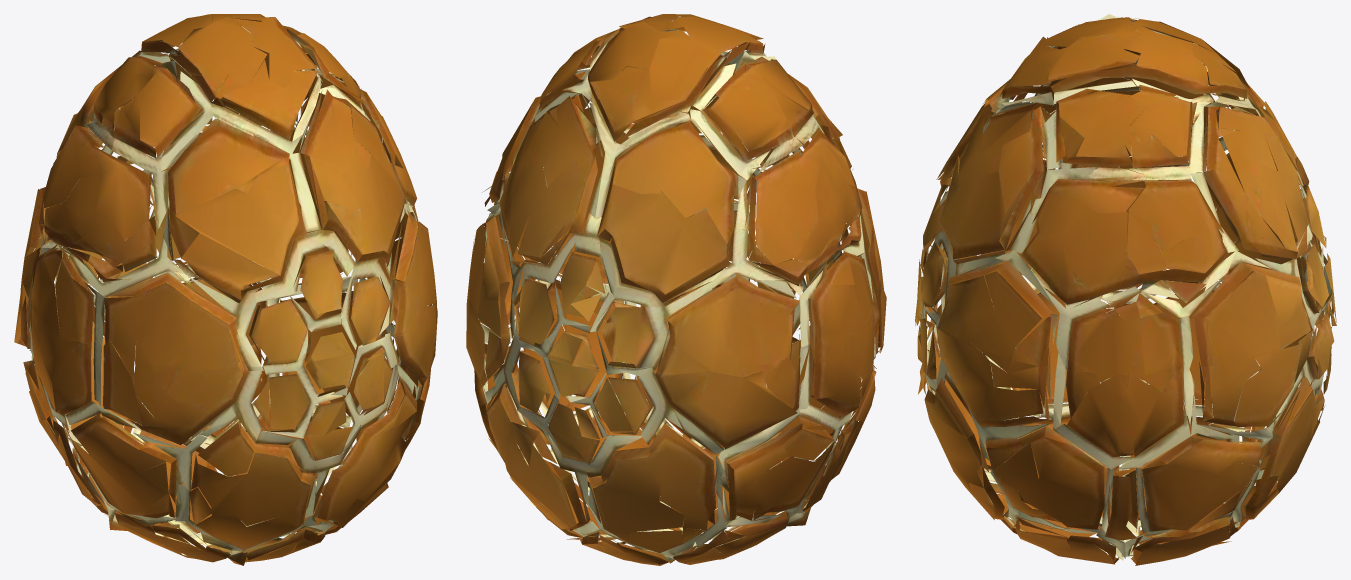
File: swarm.glb
3 renders of one model, left to right at view 1: azimuth 30°, elevation 25°; view 2: azimuth 150°, elevation 25°; view 3: azimuth 270°, elevation 25°, orthographic.
Visible parts, largest first — view 1: Cap, Cup; view 2: Cap, Cup; view 3: Cap, Cup.
Part boxes in pixels (bbox=[...]): Cap: bbox=[22, 14, 434, 371]; Cup: bbox=[14, 196, 437, 565]; Cap: bbox=[468, 14, 882, 373]; Cup: bbox=[466, 203, 886, 565]; Cap: bbox=[917, 14, 1332, 374]; Cup: bbox=[915, 199, 1336, 565].
Bounding box in the file's own units: 0.736 × 1.01 × 0.7404.
1 material, 1 textured.
